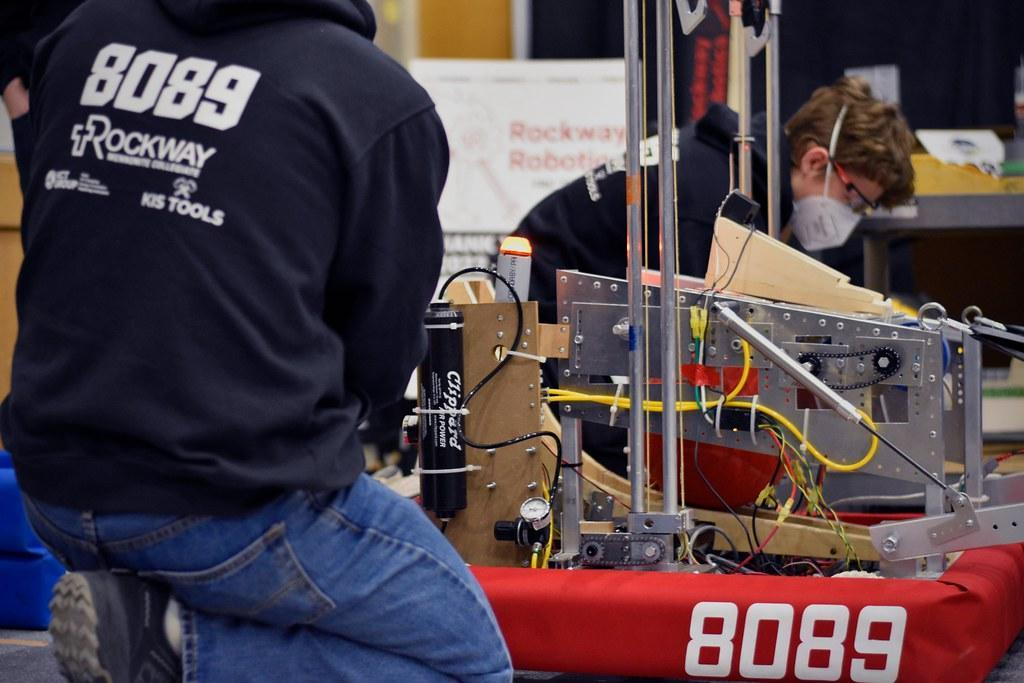robot: (359, 0, 1024, 683)
